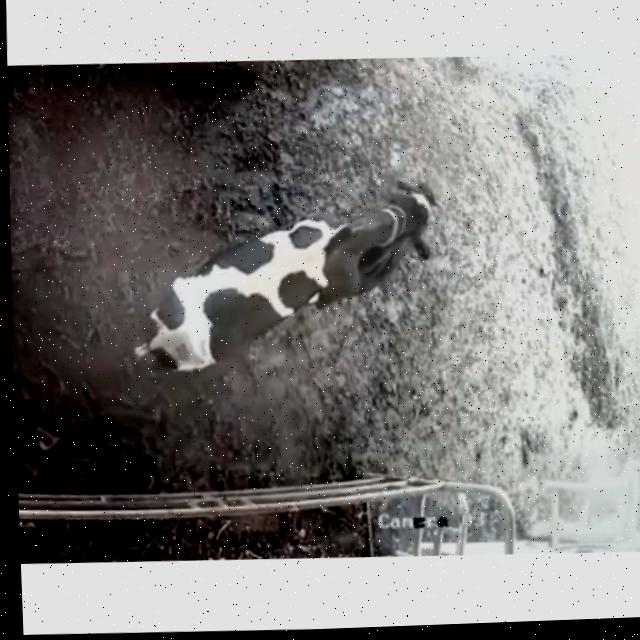ride: (122, 168, 451, 394)
